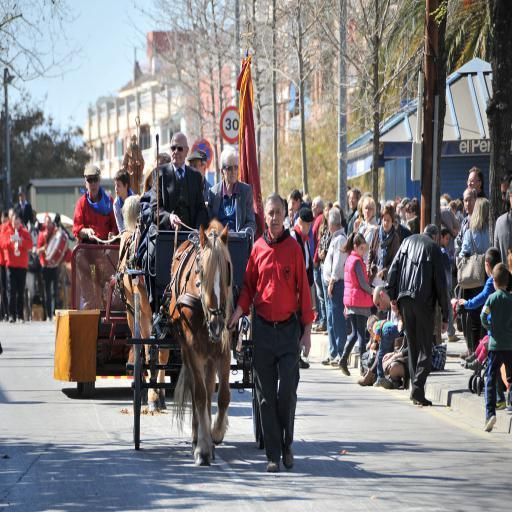horse: (165, 219, 234, 466), (118, 229, 172, 410)
